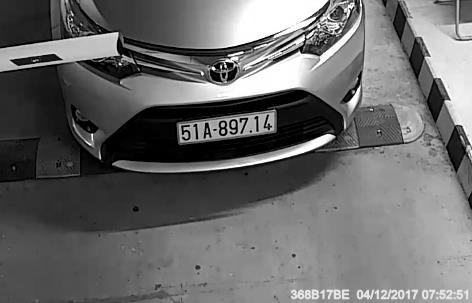License-plate: (177, 107, 285, 152)
